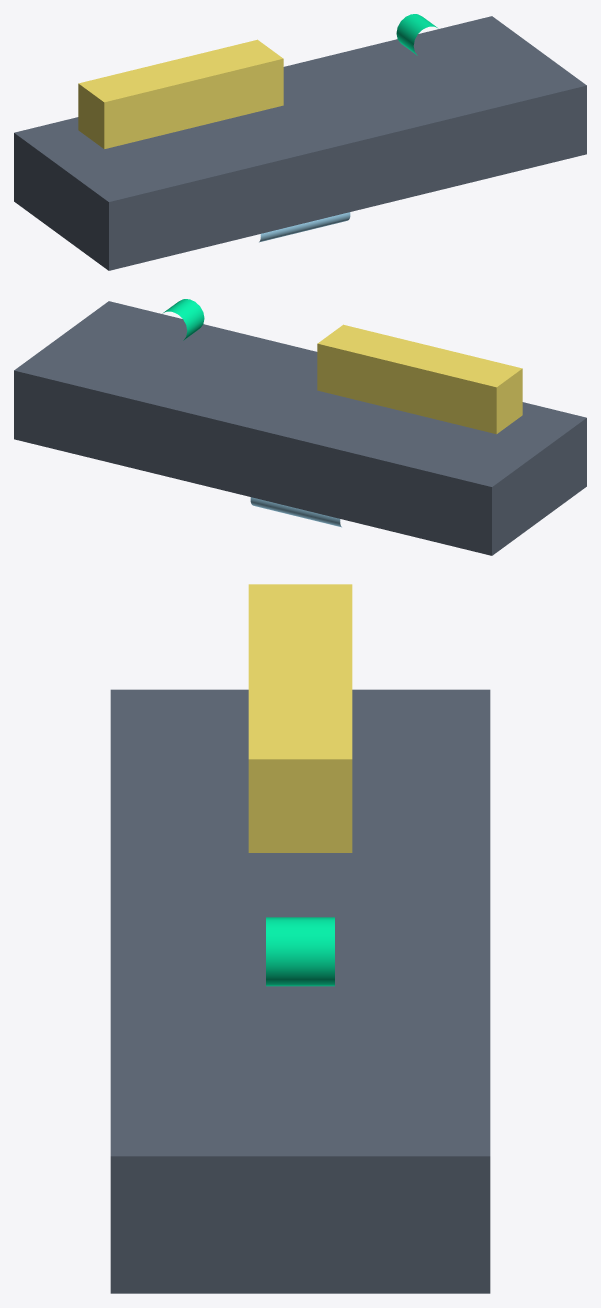
File: ppi_8255_interfacing_io.glb
3 views of the same model, one above another, from view 1: azimuth 30°, elevation 25°; view 2: azimuth 150°, elevation 25°; view 3: azimuth 270°, elevation 25° (orthographic). The views are drawn at different scales.
Parts seen in each view (by area): view 1: DIP40PPI8255ICPackage, PortALogicInputSwitches, PortCHandshakeControlLines, PortBLEDOutputDisplayBar; view 2: DIP40PPI8255ICPackage, PortALogicInputSwitches, PortCHandshakeControlLines, PortBLEDOutputDisplayBar; view 3: DIP40PPI8255ICPackage, PortALogicInputSwitches, PortBLEDOutputDisplayBar.
Boxes of the visible parts, <box> form: DIP40PPI8255ICPackage: <box>14,16,586,270</box>; PortALogicInputSwitches: <box>78,39,283,149</box>; PortCHandshakeControlLines: <box>259,212,350,242</box>; PortBLEDOutputDisplayBar: <box>396,14,438,55</box>; DIP40PPI8255ICPackage: <box>14,301,586,555</box>; PortALogicInputSwitches: <box>317,324,522,434</box>; PortCHandshakeControlLines: <box>250,497,341,527</box>; PortBLEDOutputDisplayBar: <box>162,299,204,340</box>; DIP40PPI8255ICPackage: <box>110,689,490,1293</box>; PortALogicInputSwitches: <box>248,584,352,852</box>; PortBLEDOutputDisplayBar: <box>266,917,334,986</box>.
Bounding box in the file's own units: 1.6 × 0.605 × 0.55.
